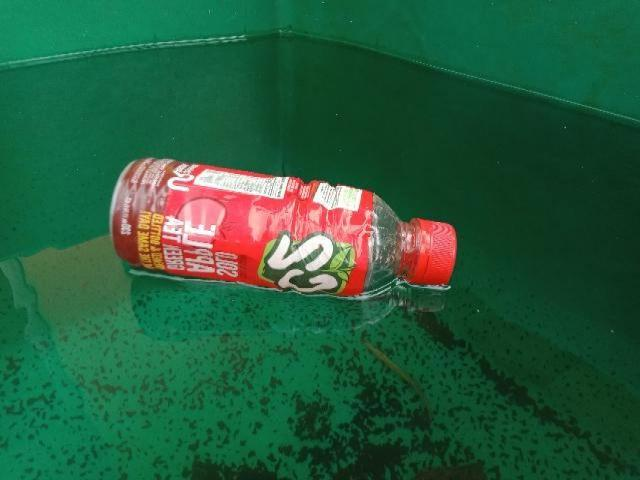Bottle: (98, 150, 468, 304)
